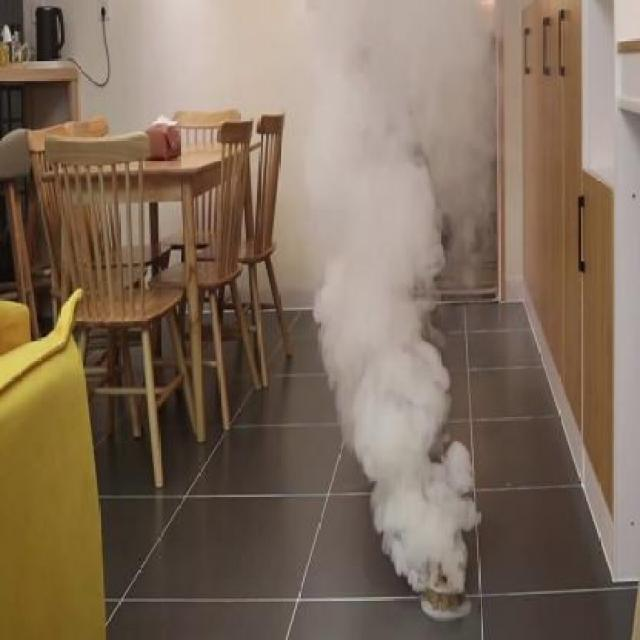smoke: (297, 2, 511, 593)
